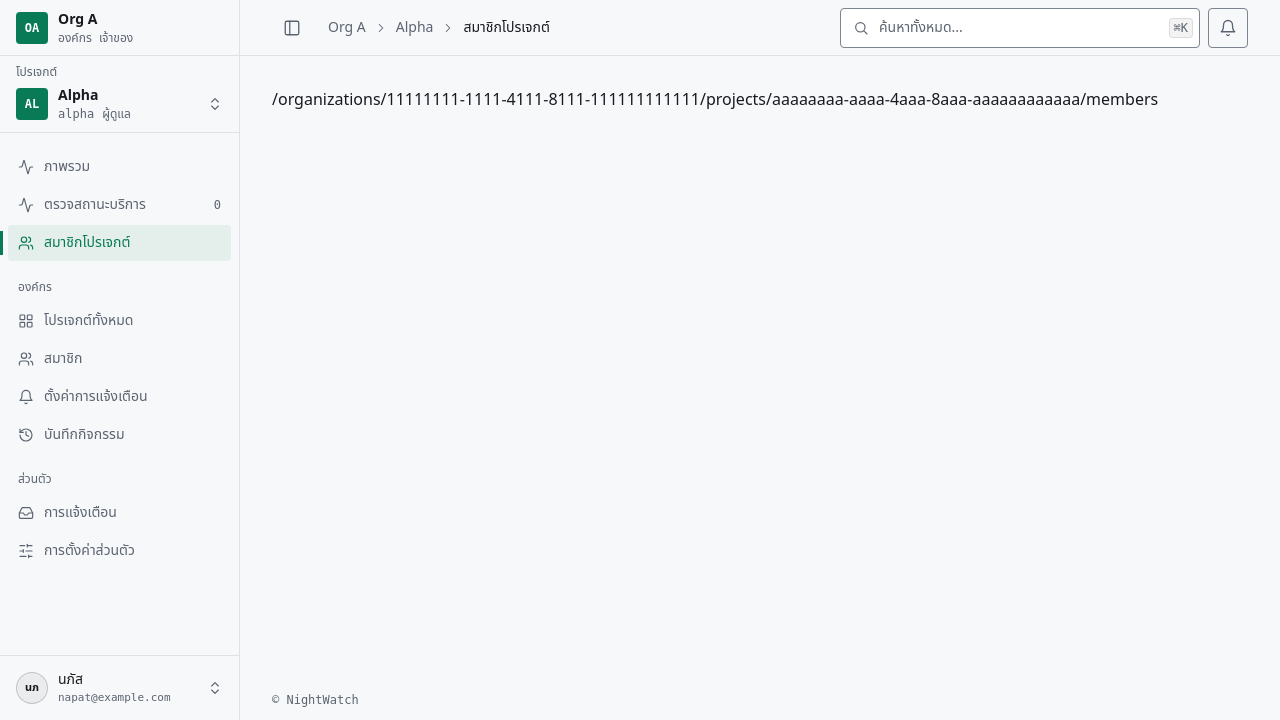
Test: ProjectSwitcher › AC-04: switching on a Project page opens the same page of the new Project and remembers it
Click the button with test id "shell-project-switch": (120, 104) [8,84,231,124]
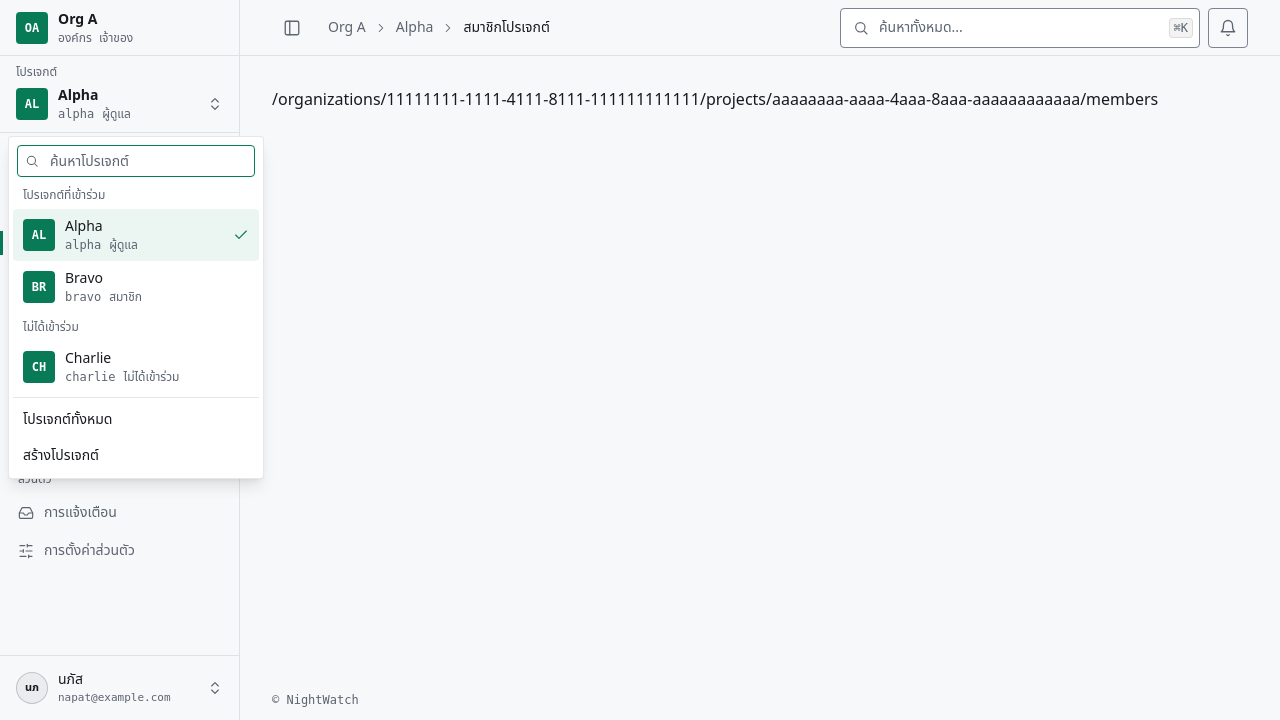
Click the menu item "BR Bravo bravoสมาชิก": (136, 287) [13,261,259,313]
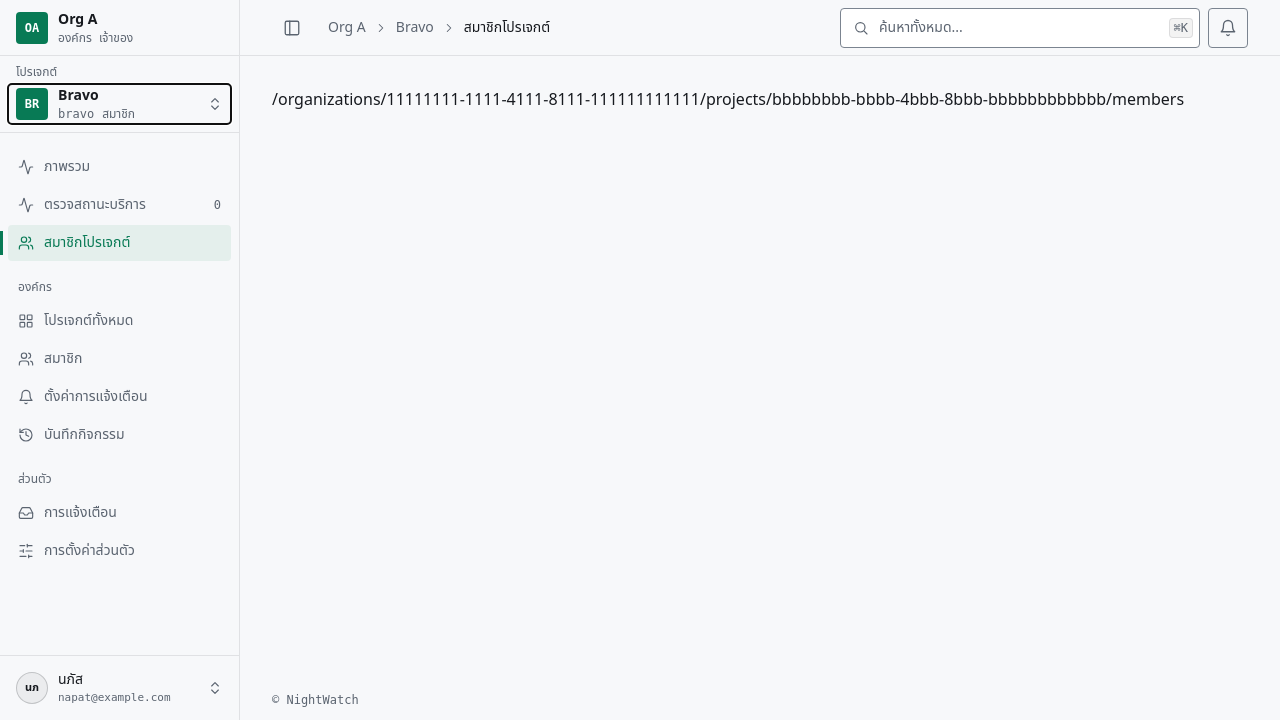
Expected: the button with test id "shell-project-switch" shows "Bravo", [8,84,231,124]
